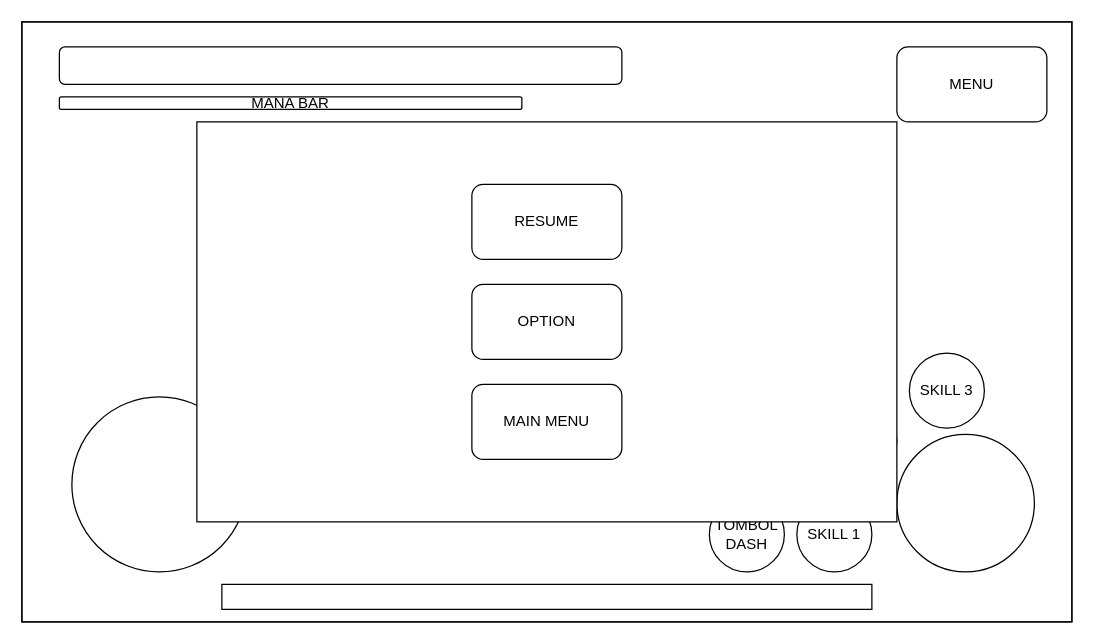
Some shapes in this 1094 by 644 pixel diagram are drawn without their labels. The shapes that lost their labels are listed below. From the top down, each one's centre as x and y in pixels, then its label:
[340,65]: HEALTH BAR
[159,484]: JOYSTICK
[965,502]: TOMBOL ATTACK
[546,596]: XP BAR
